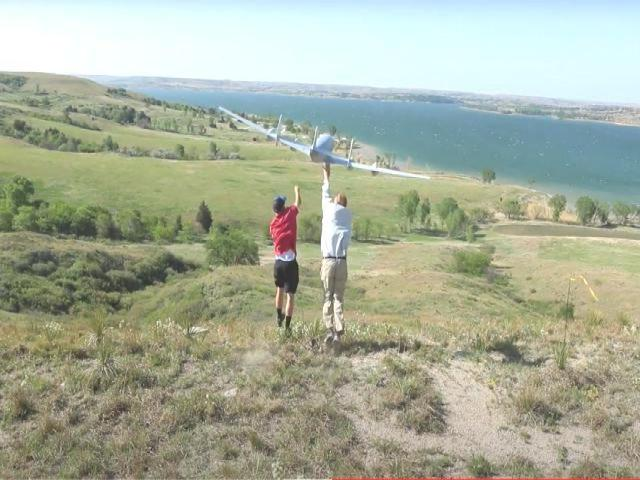iha: (220, 106, 429, 181)
